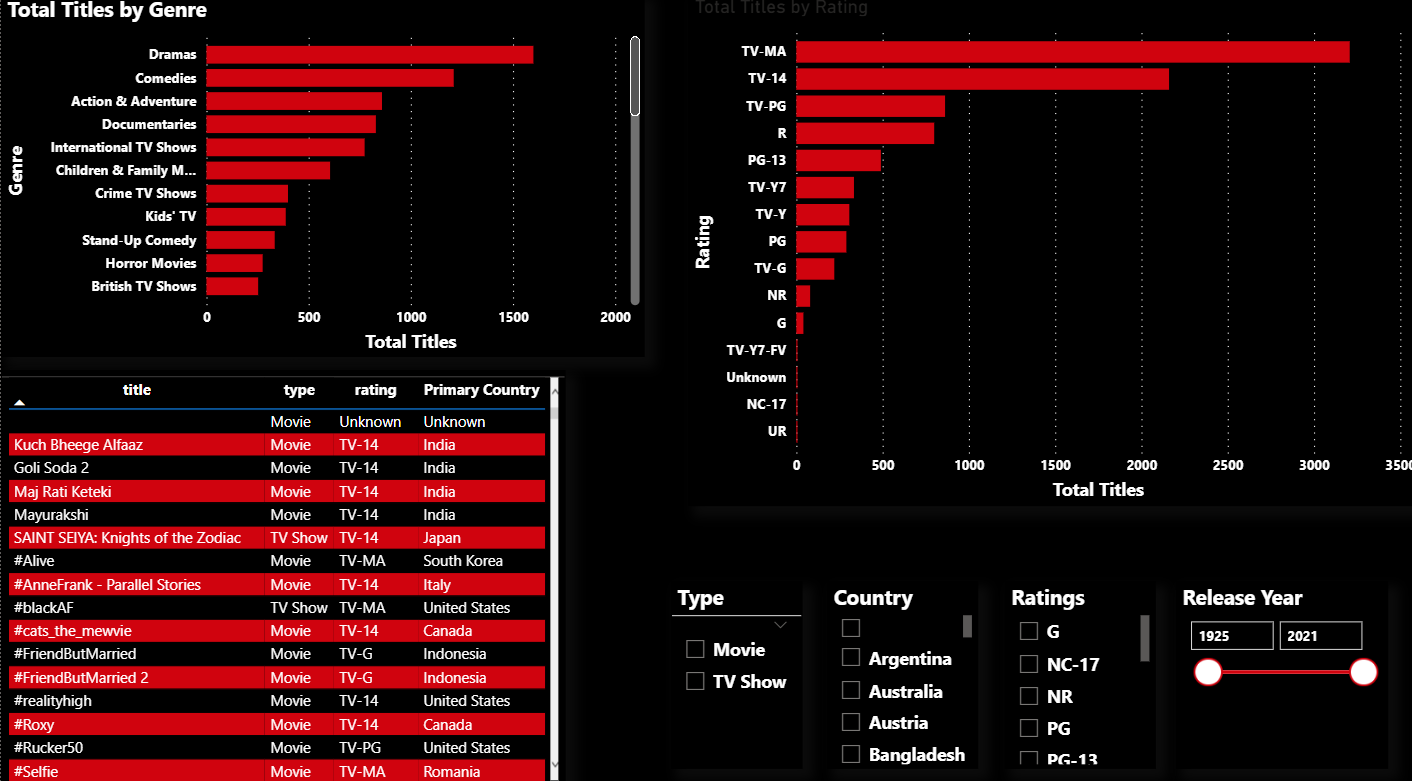

The page's visual inventory and layout, read from the dashboard file:
{"tool":"powerbi","page":{"name":"Page 2","canvas":[1280,720],"ordinal":1},"visuals":[{"type":"clusteredBarChart","fields":{"Y":["netflix_titles.Total Titles"],"Category":["netflix_titles.listed_in.1"]},"box":[0,0,580,327.5],"z":0},{"type":"clusteredBarChart","title":"Total Titles by Rating","fields":{"Y":["netflix_titles.Total Titles"],"Category":["netflix_titles.rating"]},"box":[620,0,660,461.2],"z":1000},{"type":"tableEx","fields":{"Values":["netflix_titles.title","netflix_titles.type","netflix_titles.rating","netflix_titles.Primary Country"]},"box":[0,338.6,508.5,381.4],"z":2000},{"type":"slicer","title":"Type","fields":{"Values":["netflix_titles.type"]},"box":[603.8,530,118.8,168.8],"z":3000},{"type":"slicer","title":"Country","fields":{"Values":["netflix_titles.Primary Country"]},"box":[745,530,136.2,168.8],"z":4000},{"type":"slicer","title":"Ratings","fields":{"Values":["netflix_titles.rating"]},"box":[905,530,136.2,168.8],"z":5000},{"type":"slicer","title":"Release Year","fields":{"Values":["netflix_titles.release_year"]},"box":[1058.8,530,191.2,168.8],"z":6000}]}

Visuals, with their boxes in screenshot pixels (x1, y1, x2, y2), scaled from the page's 1280x720 canvas onto the 1412x781 screenshot:
clusteredBarChart - netflix_titles.Total Titles x netflix_titles.listed_in.1: BBox(0, 0, 640, 355)
"Total Titles by Rating" clusteredBarChart: BBox(684, 0, 1411, 500)
tableEx - netflix_titles.title x netflix_titles.type: BBox(0, 367, 561, 780)
"Type" slicer: BBox(666, 575, 797, 758)
"Country" slicer: BBox(822, 575, 972, 758)
"Ratings" slicer: BBox(998, 575, 1149, 758)
"Release Year" slicer: BBox(1168, 575, 1379, 758)
